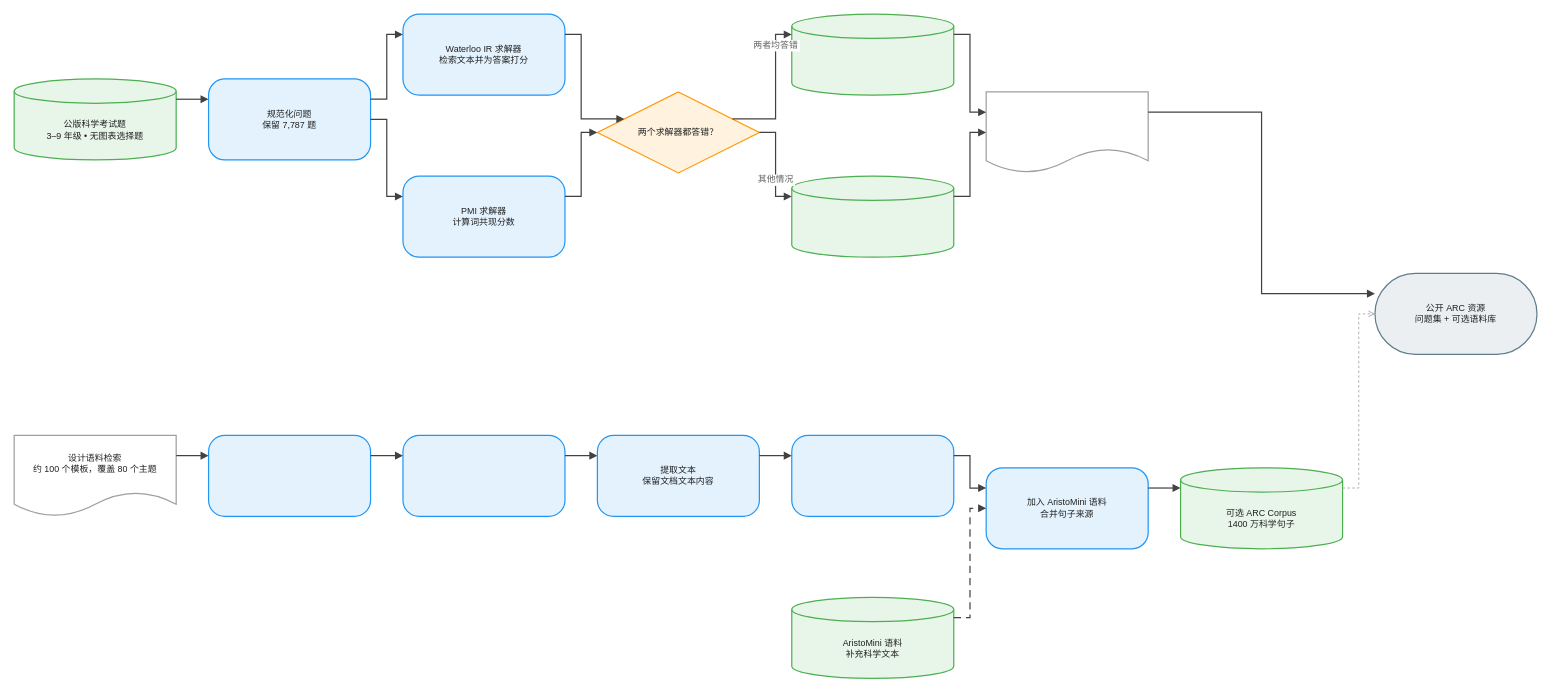
This 1552x693 diagram has some shape labels left out. Here are the shapes that lost their labels. From the top down, the centre of each, then its label:
(x=872, y=54): ARC Challenge 2,590 题
(x=1066, y=132): 发布 ARC 问题集 Easy + Challenge = 7,787
(x=872, y=216): ARC Easy 5,197 题
(x=289, y=475): 检索网页文档 按主题检索网页
(x=483, y=475): 文档去重 删除重复网页
(x=872, y=475): 切分为句子 构造句子级语料单元
